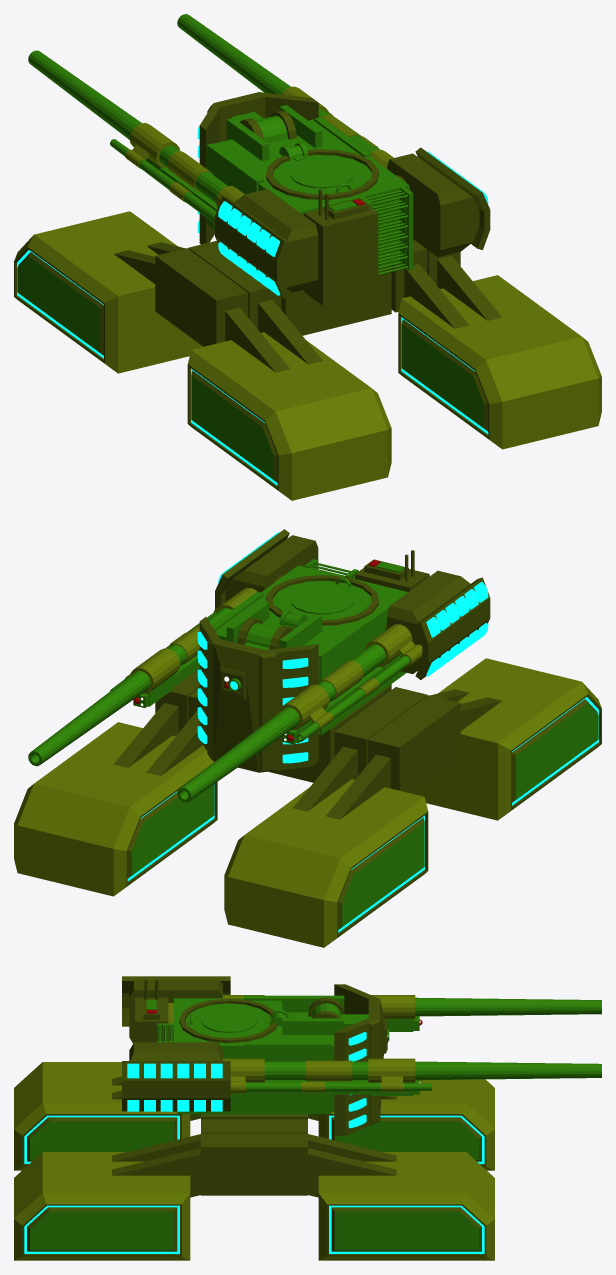
Rendered from FCC Hover.gltf.
The picture shows the model from 3 angles, top to bottom: view 1: azimuth 30°, elevation 25°; view 2: azimuth 150°, elevation 25°; view 3: azimuth 270°, elevation 25°; orthographic projection. The views are drawn at different scales.
Parts seen in each view (by area): view 1: feet-Armor 1, Cube (×2), feet-Armor 2, thighs (×2), knees (×2), Cube.2 (×2), feet-Armor 3, Tube, Upper Base, Cube.4, Lower Base, Cube-Armor 3 (+7 smaller); view 2: feet-Armor 1, feet-Armor 2, thighs (×2), Cube-Armor 3, knees (×2), Cube (×2), Tube (×2), feet-Armor 3, Cube.4, Cylinder.1 (×3), Upper Base, Cube.2 (×2) (+8 smaller); view 3: feet-Armor 1, feet-Armor 2, thighs (×2), Tube (×2), feet-Armor 3, knees (×2), Cube (×2), Cube.4, Cube-Armor 3, feet-Engion/Shield, Cube.2 (×3), Cube.1 (×2) (+7 smaller).
Boxes of the visible parts, x1,y1,x2,y2 form: feet-Armor 1: (14,211,601,500); Cube (×2): (206,117,479,292); feet-Armor 2: (17,256,483,479); thighs (×2): (155,239,460,346); knees (×2): (113,242,502,372); Cube.2 (×2): (226,105,378,305); feet-Armor 3: (14,247,489,490); Tube: (28,14,290,139); Upper Base: (206,119,409,266); Cube.4: (215,147,490,298); Lower Base: (281,266,391,335); Cube-Armor 3: (199,92,318,244); feet-Armor 1: (14,658,601,947); feet-Armor 2: (132,703,598,926); thighs (×2): (155,668,460,793); Cube-Armor 3: (199,617,318,772); knees (×2): (113,689,501,819); Cube (×2): (211,535,470,680); Tube (×2): (28,643,365,802); feet-Armor 3: (126,684,601,937); Cube.4: (215,529,490,679); Cylinder.1 (×3): (168,586,363,701); Upper Base: (215,565,407,733); Cube.2 (×2): (226,568,429,648); feet-Armor 1: (14,1062,494,1260); feet-Armor 2: (30,1121,478,1250); thighs (×2): (201,1119,307,1195); Tube (×2): (325,997,601,1091); feet-Armor 3: (22,1114,486,1256); knees (×2): (112,1076,396,1197); Cube (×2): (129,980,331,1061); Cube.4: (122,976,230,1111); Cube-Armor 3: (334,984,384,1135); feet-Engion/Shield: (24,1115,484,1253); Cube.2 (×3): (135,995,413,1095); Cube.1 (×2): (177,1016,419,1113).
Size of the model in its own units: 6.13 by 4.16 by 10.97.
